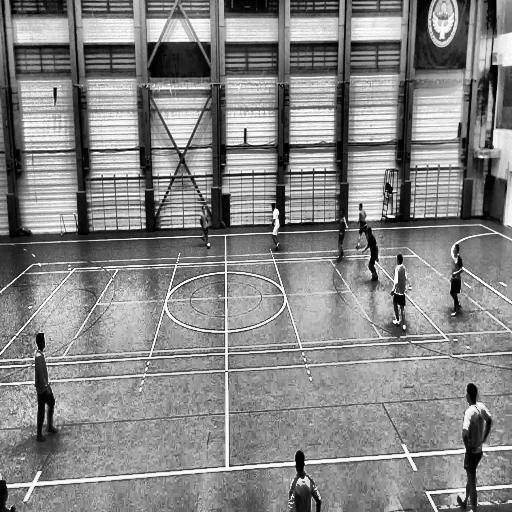ball: (206, 241, 211, 250)
player: (458, 383, 493, 512), (32, 334, 58, 440), (390, 254, 406, 333), (450, 242, 463, 317), (363, 226, 379, 281), (266, 202, 282, 250), (336, 208, 348, 261), (356, 203, 368, 250), (200, 205, 210, 246)
